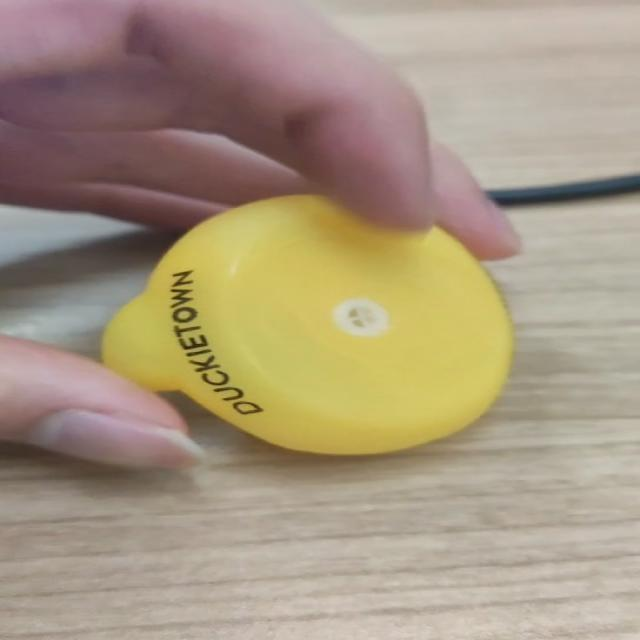rubber-duck: (101, 194, 511, 452)
